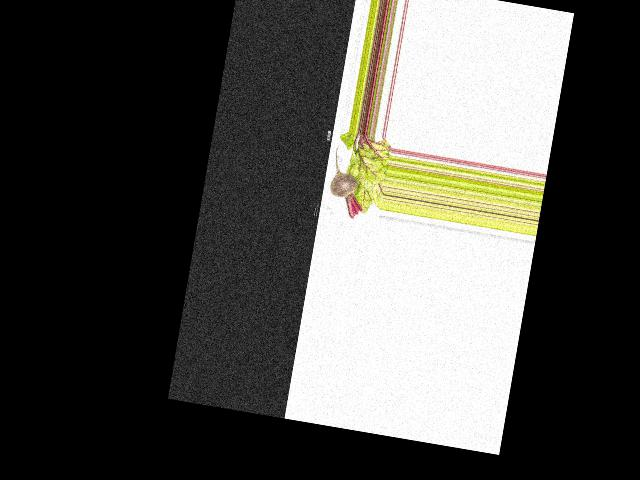beet: (325, 145, 372, 220)
